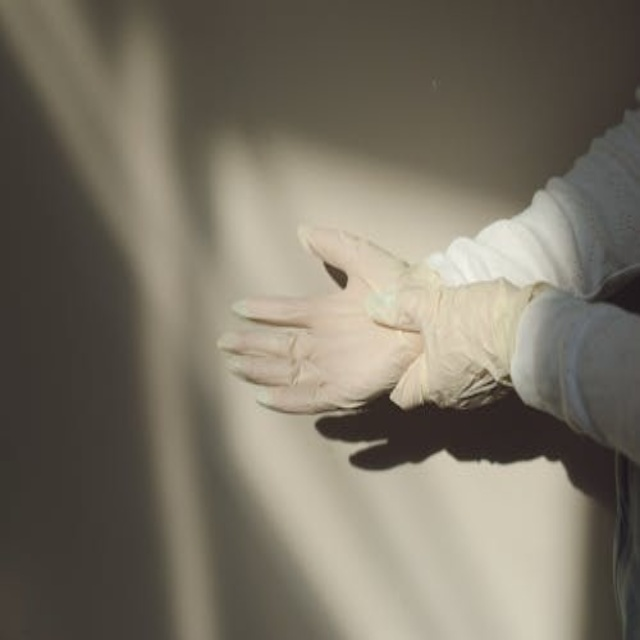Guantes: (215, 204, 403, 415), (371, 271, 531, 436)
